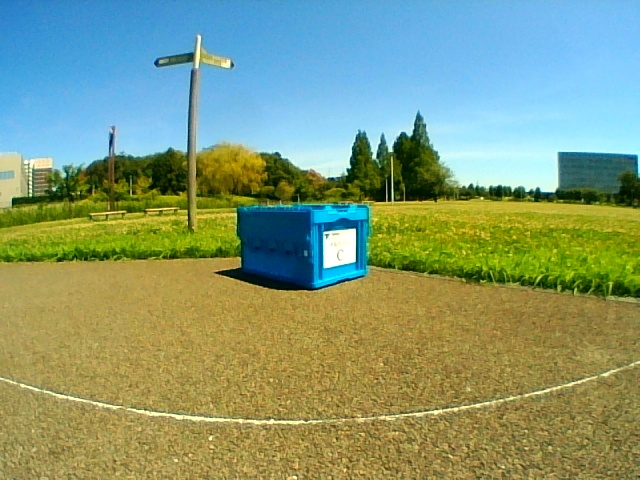blue_box: (239, 205, 365, 276)
tag_c: (326, 232, 355, 265)
